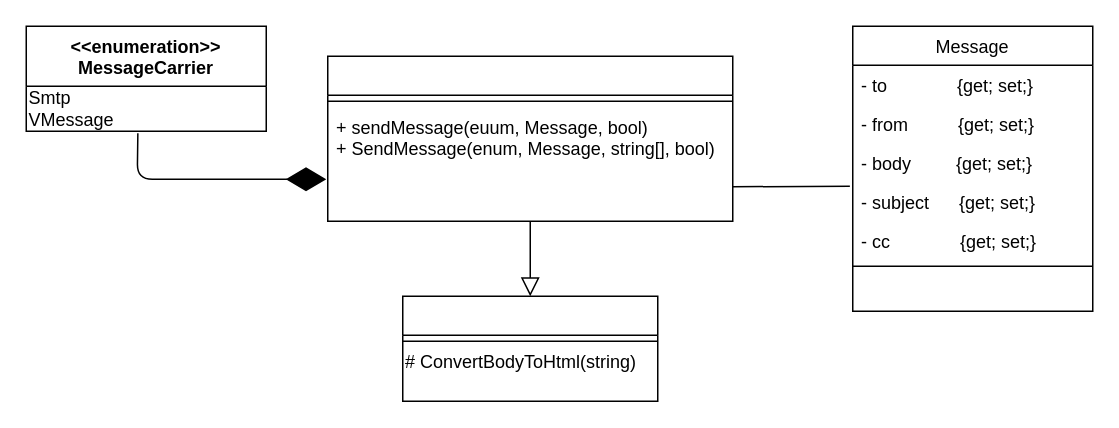
Image size: 1119x428. Some labels were removed from this diagram. The shapes that lost their labels are listed below. From the top down, each one's box as (x1, y1, x2, y2) in pixels, then its label:
(326, 55, 733, 221): MassageManager
(401, 295, 658, 401): ConvertHTML
